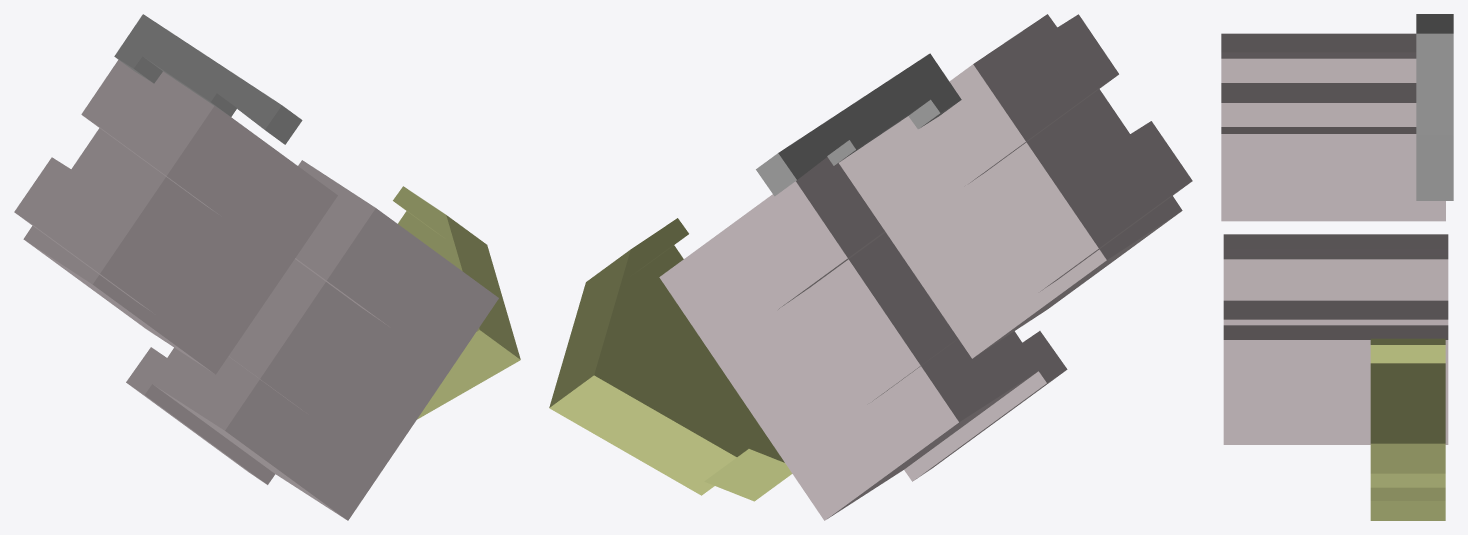
3 renders of one model, left to right at view 1: azimuth 30°, elevation 25°; view 2: azimuth 150°, elevation 25°; view 3: azimuth 270°, elevation 25°, orthographic. The views are drawn at different scales.
Visible parts, largest first — view 1: 0_1_2_0_3_0_2_2_1; view 2: 0_1_2_0_3_0_2_2_1; view 3: 0_1_2_0_3_0_2_2_1.
Boxes of the visible parts, x1,y1,x2,y2 form: 0_1_2_0_3_0_2_2_1: (14, 14, 520, 520); 0_1_2_0_3_0_2_2_1: (549, 14, 1192, 520); 0_1_2_0_3_0_2_2_1: (1221, 14, 1453, 520).
Bounding box in the file's own units: 39.27 × 35.46 × 18.62.
